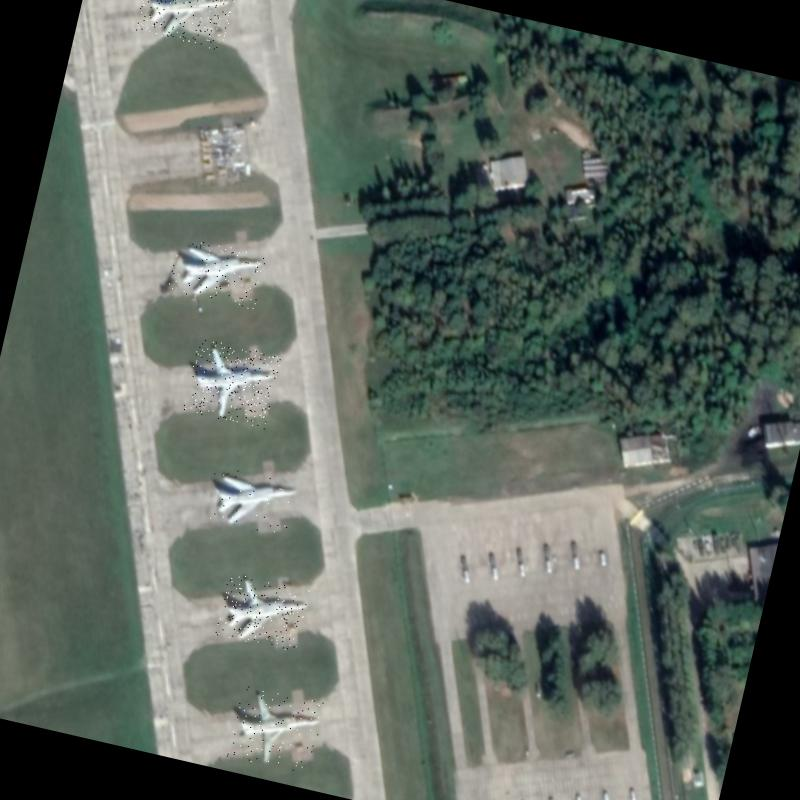A12: (226, 681, 326, 775), (182, 336, 281, 429), (214, 570, 310, 653), (167, 235, 267, 310), (200, 463, 300, 537), (134, 0, 236, 51)
